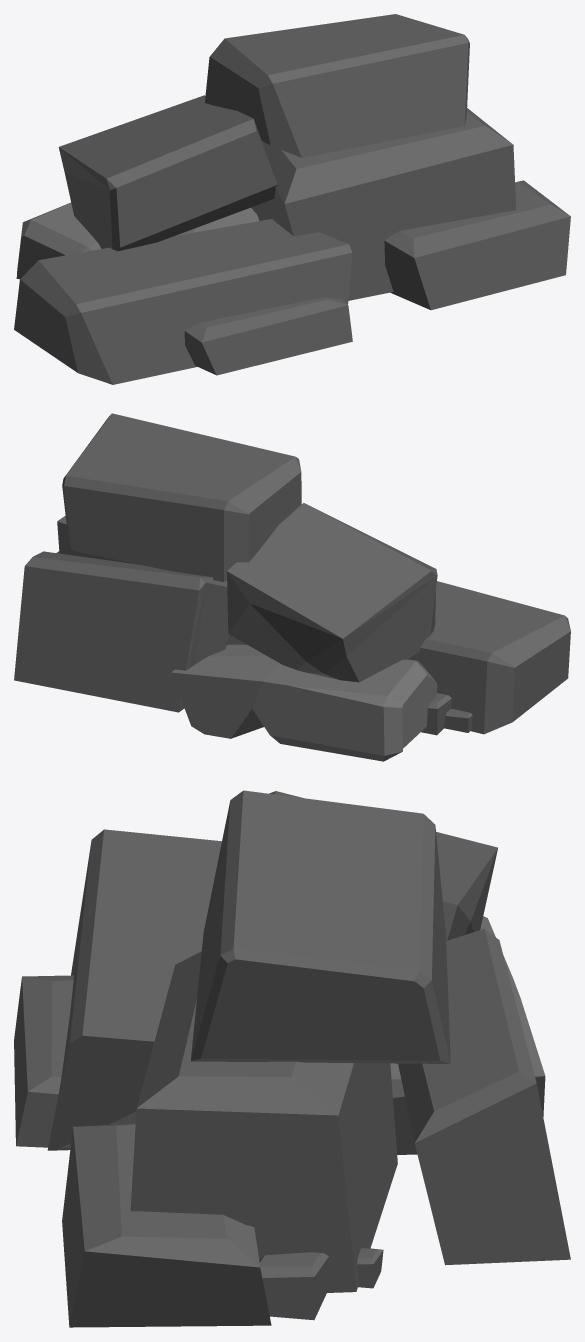
Rendered from EM_rock_fence5.fbx.
3 renders of one model, top to bottom at view 1: azimuth 30°, elevation 25°; view 2: azimuth 150°, elevation 25°; view 3: azimuth 270°, elevation 25°, orthographic. The views are drawn at different scales.
Visible parts, largest first — view 1: EM_rock_fence5_LOD0; view 2: EM_rock_fence5_LOD0; view 3: EM_rock_fence5_LOD0.
Boxes of the visible parts, left/top/right/bottom form: EM_rock_fence5_LOD0: left=14, top=14, right=570, bottom=384; EM_rock_fence5_LOD0: left=14, top=413, right=570, bottom=761; EM_rock_fence5_LOD0: left=14, top=790, right=570, bottom=1327.
Size of what is drawn, in the model's own units: 1.55 by 0.6444 by 0.9287.
